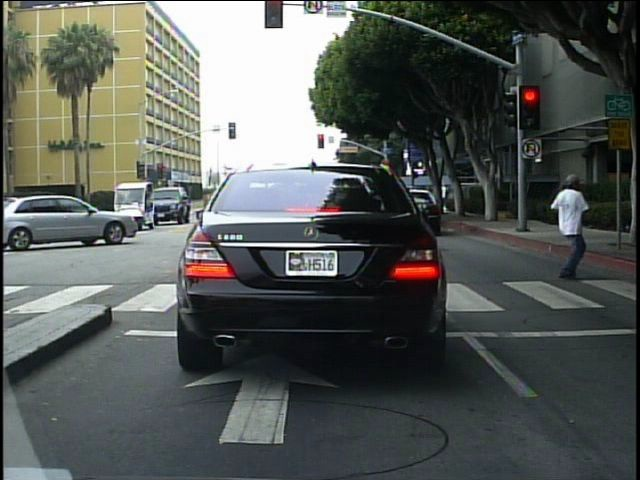person: (549, 167, 594, 283), (631, 166, 638, 294), (438, 179, 452, 213)
